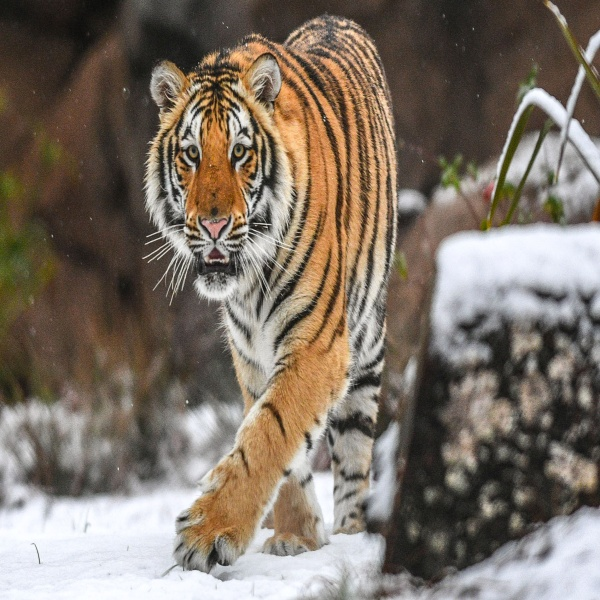Tiger: (143, 13, 407, 577)
